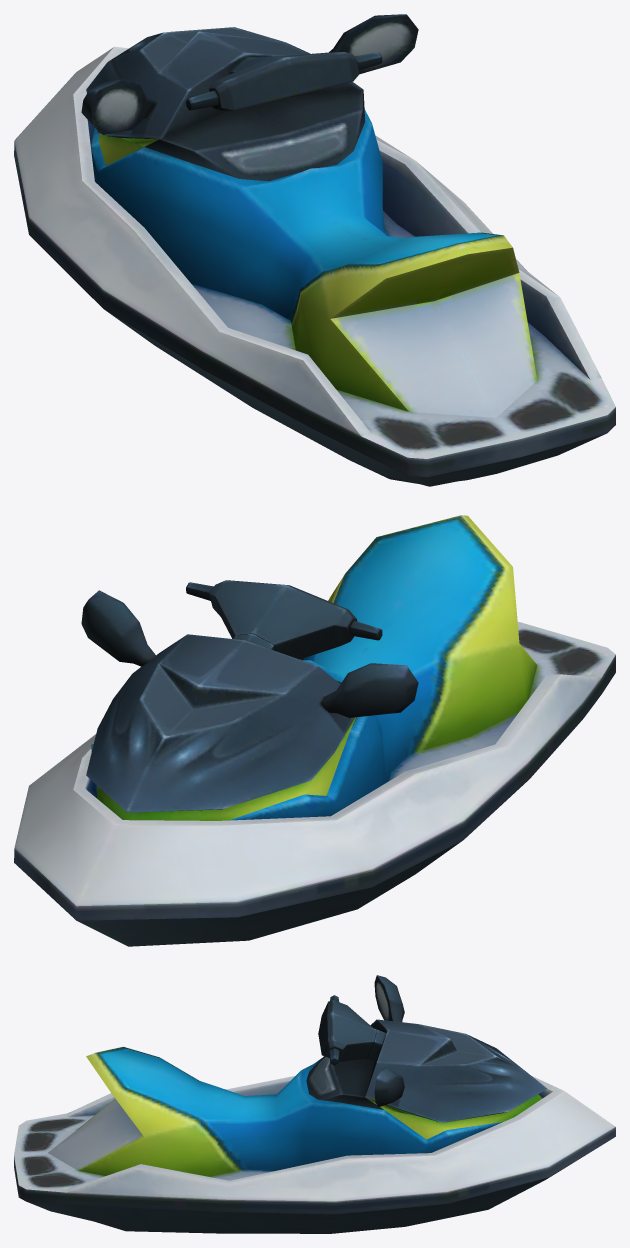
File: furn_se2021_motorboat_001.gltf
The picture shows the model from 3 angles, top to bottom: view 1: azimuth 30°, elevation 25°; view 2: azimuth 150°, elevation 25°; view 3: azimuth 270°, elevation 25°; orthographic projection. The views are drawn at different scales.
Visible parts, largest first — view 1: se2021_motorboat_001; view 2: se2021_motorboat_001; view 3: se2021_motorboat_001.
Part boxes in pixels (box(x1,y1,x2,y2)): se2021_motorboat_001: box(14, 14, 615, 486); se2021_motorboat_001: box(14, 515, 615, 946); se2021_motorboat_001: box(14, 975, 615, 1233).
Size of the model in its own units: 0.763 by 0.603 by 1.63.
Materials: 1 (1 with a texture image).
